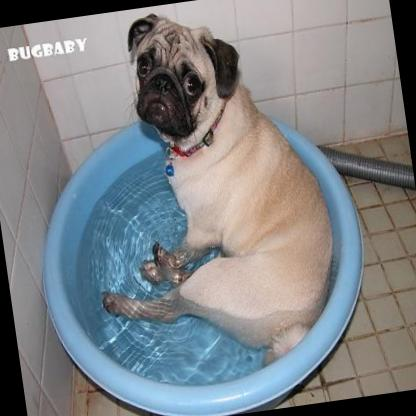pug: (57, 0, 349, 388)
